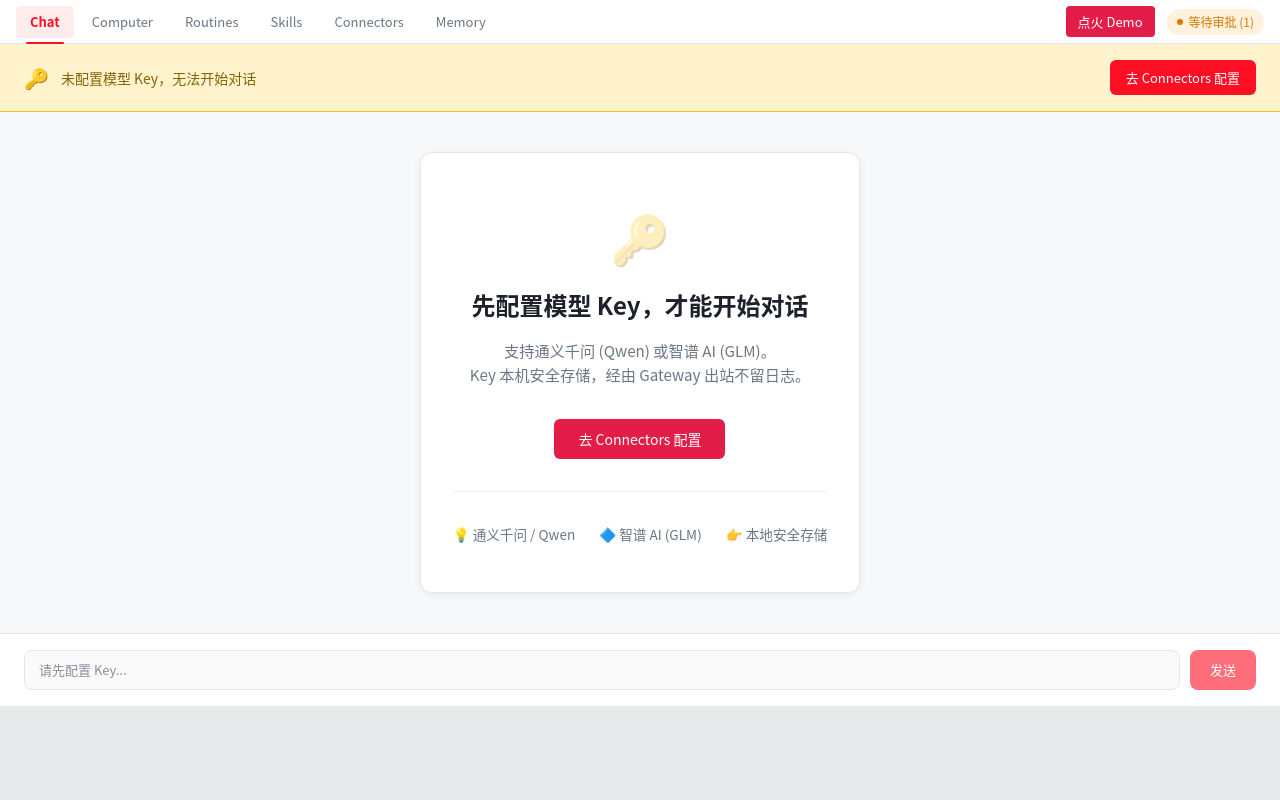
TC-APPROVAL-PILL-INTERACTIVE: 审批 pill 可解除计数 › 场景 3: 点击「驳回」→ 计数变为 0 + Toast + pill 状态变 › should clear approval count and show feedback when rejected
# 1. 打开审批面板
Click the element with class "wait": (1215, 22) left=1166, top=8, right=1264, bottom=34
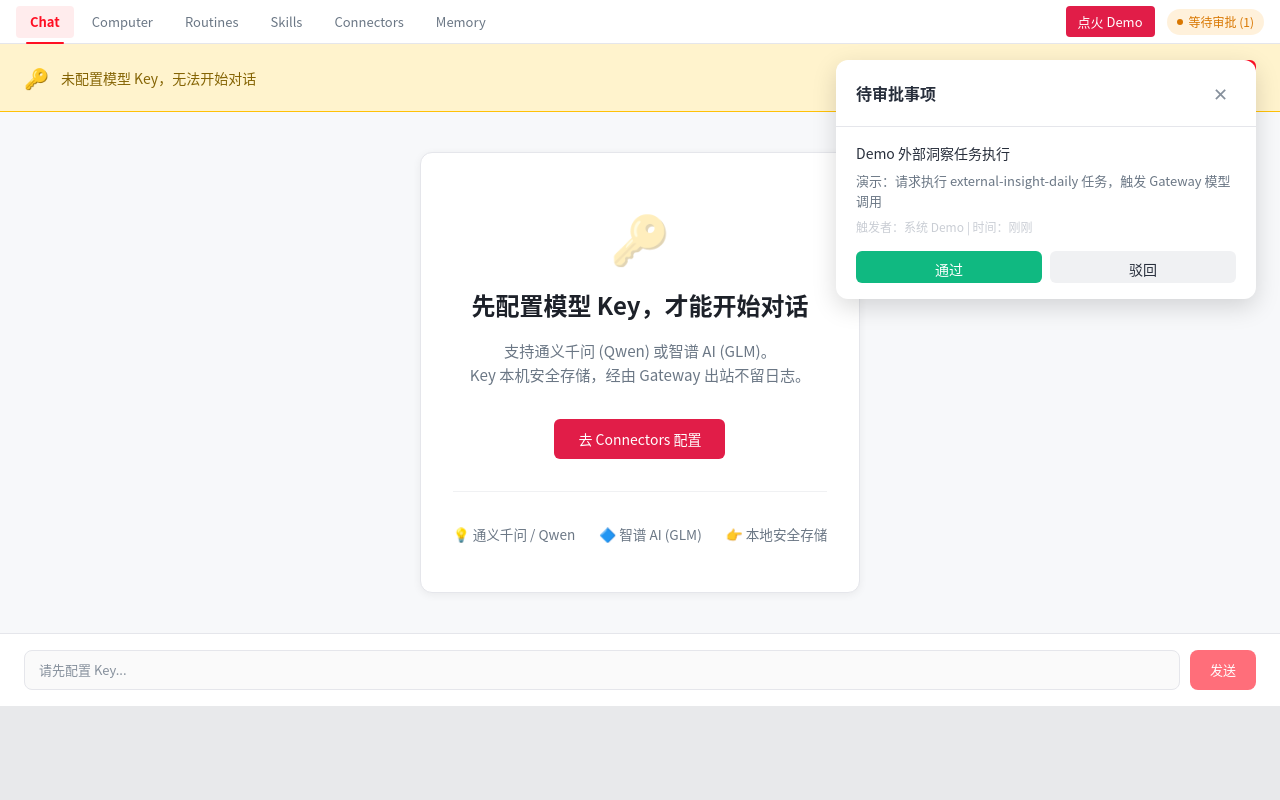
Check: the element with class "approval-panel" is shown, box left=836, top=60, right=1256, bottom=299
Check: the button with class "btn-reject" is shown
Click the button with class "btn-reject": (1143, 267) left=1050, top=251, right=1236, bottom=283
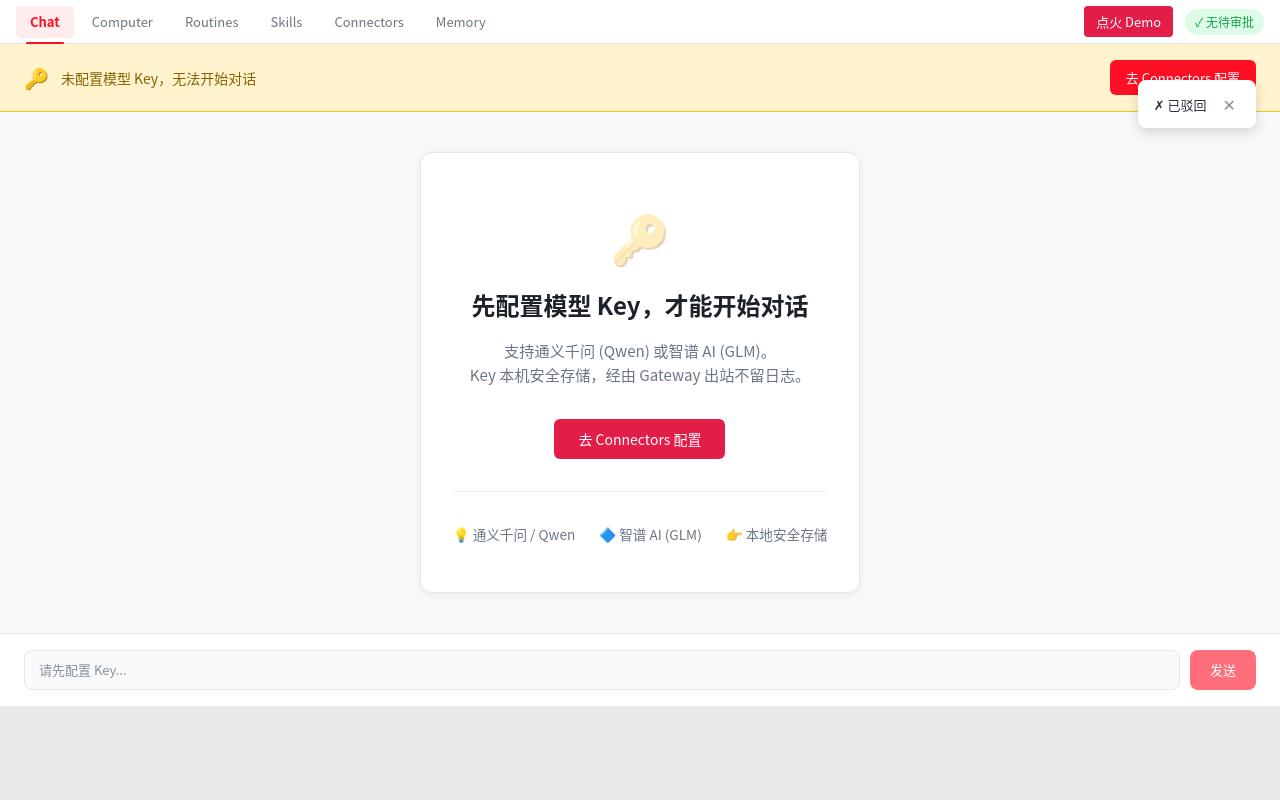
Check: the element with class "approval-panel" is gone
Check: the element with class "approval-feedback-toast" is shown, box left=1138, top=80, right=1256, bottom=128
Check: the element with class "approval-feedback-toast" shows "已驳回", box left=1154, top=94, right=1207, bottom=114
